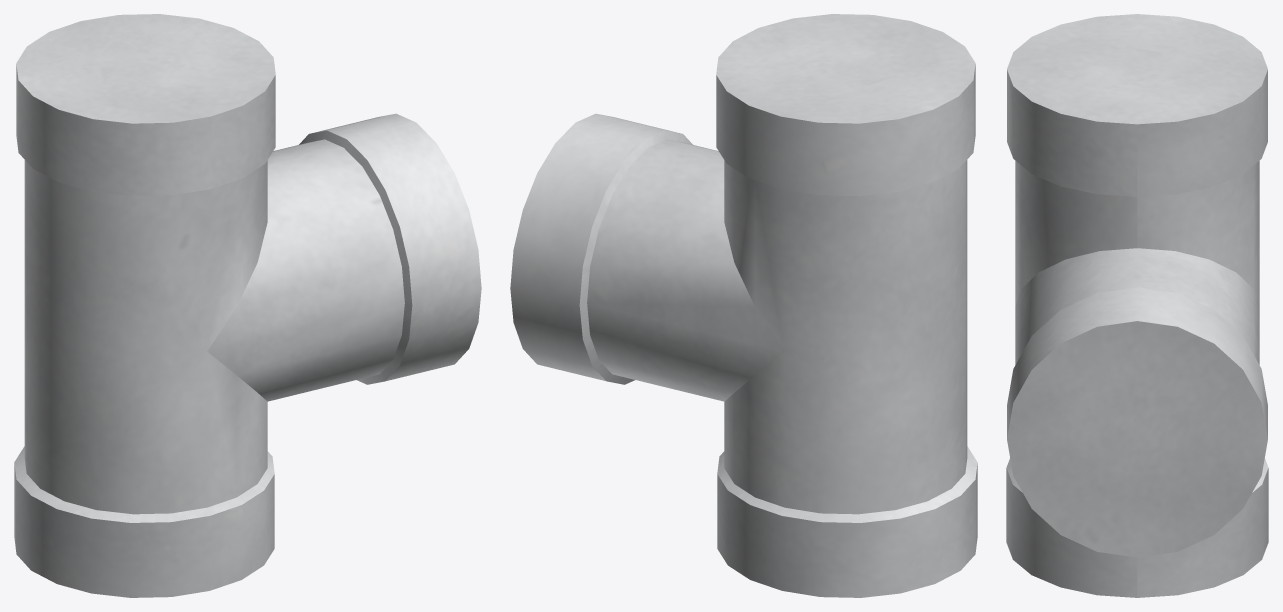
Rendered from pipe_T.fbx.
The picture shows the model from 3 angles, left to right: view 1: azimuth 30°, elevation 25°; view 2: azimuth 150°, elevation 25°; view 3: azimuth 270°, elevation 25°; orthographic projection.
Visible parts, largest first — view 1: polySurface1; view 2: polySurface1; view 3: polySurface1.
Boxes of the visible parts, x1,y1,x2,y2 form: polySurface1: [14, 14, 481, 597]; polySurface1: [510, 14, 977, 597]; polySurface1: [1006, 14, 1268, 597].
Size of the model in its own units: 2.07 by 2.43 by 1.22.
1 material, 1 textured.
